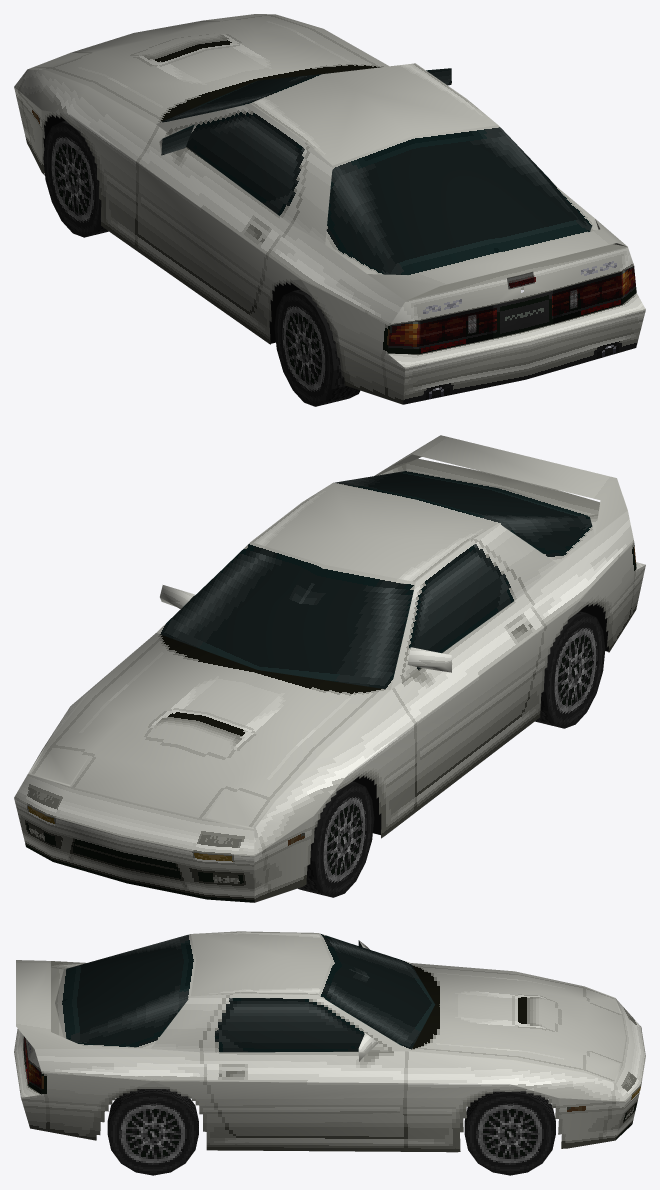
The model's file is GT_SIMULATION__AFC7N.glb.
3 renders of one model, top to bottom at view 1: azimuth 30°, elevation 25°; view 2: azimuth 150°, elevation 25°; view 3: azimuth 270°, elevation 25°, orthographic. The views are drawn at different scales.
Visible parts, largest first — view 1: Native body LOD0, Native wheel 2, Native wheel 0; view 2: Native body LOD0, Native wheel 0, Native wheel 2; view 3: Native body LOD0, Native wheel 3, Native wheel 1.
Part boxes in pixels (box(x1,y1,x2,y2)): Native body LOD0: box(14, 14, 645, 404); Native wheel 2: box(274, 289, 360, 406); Native wheel 0: box(43, 121, 108, 237); Native body LOD0: box(14, 435, 645, 902); Native wheel 0: box(298, 781, 374, 897); Native wheel 2: box(535, 611, 605, 728); Native body LOD0: box(14, 931, 645, 1152); Native wheel 3: box(107, 1089, 198, 1175); Native wheel 1: box(464, 1091, 555, 1175).
Size of the model in its own units: 1.77 by 1.27 by 4.31.
Materials: 11 (10 with a texture image).
